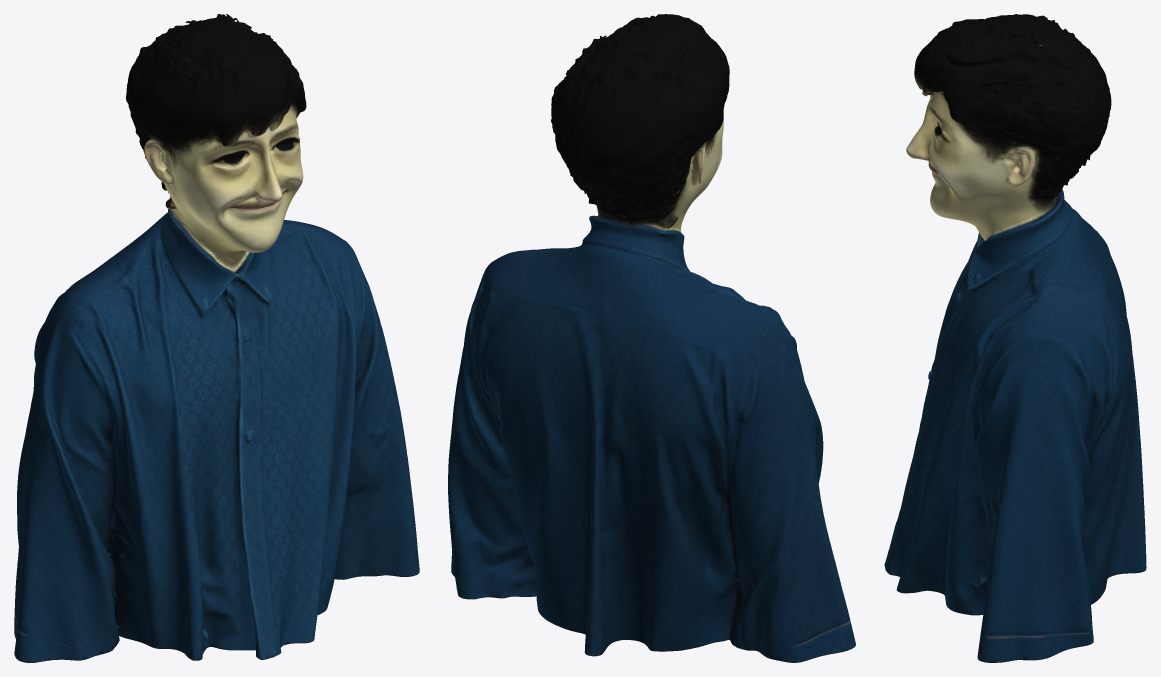
The model's file is Dominic.glb.
The picture shows the model from 3 angles, left to right: view 1: azimuth 30°, elevation 25°; view 2: azimuth 150°, elevation 25°; view 3: azimuth 270°, elevation 25°; orthographic projection. The views are drawn at different scales.
Parts seen in each view (by area): view 1: mesh_node; view 2: mesh_node; view 3: mesh_node.
Boxes of the visible parts, x1=… form: mesh_node: x1=14, y1=14, x2=419, y2=662; mesh_node: x1=448, y1=14, x2=855, y2=662; mesh_node: x1=884, y1=14, x2=1146, y2=662.
Bounding box in the file's own units: 1.35 × 1.89 × 0.8118.
1 material, 1 textured.
